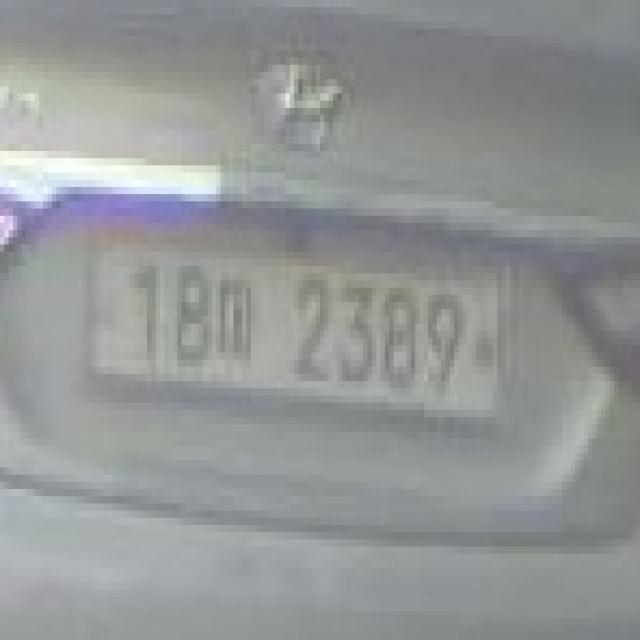1: (125, 245, 168, 381)
2: (294, 266, 333, 396)
3: (338, 266, 377, 388)
8: (380, 280, 420, 410), (177, 252, 212, 381)
9: (424, 281, 471, 417)
license_plate: (65, 216, 523, 453)
ma: (216, 266, 264, 381)
